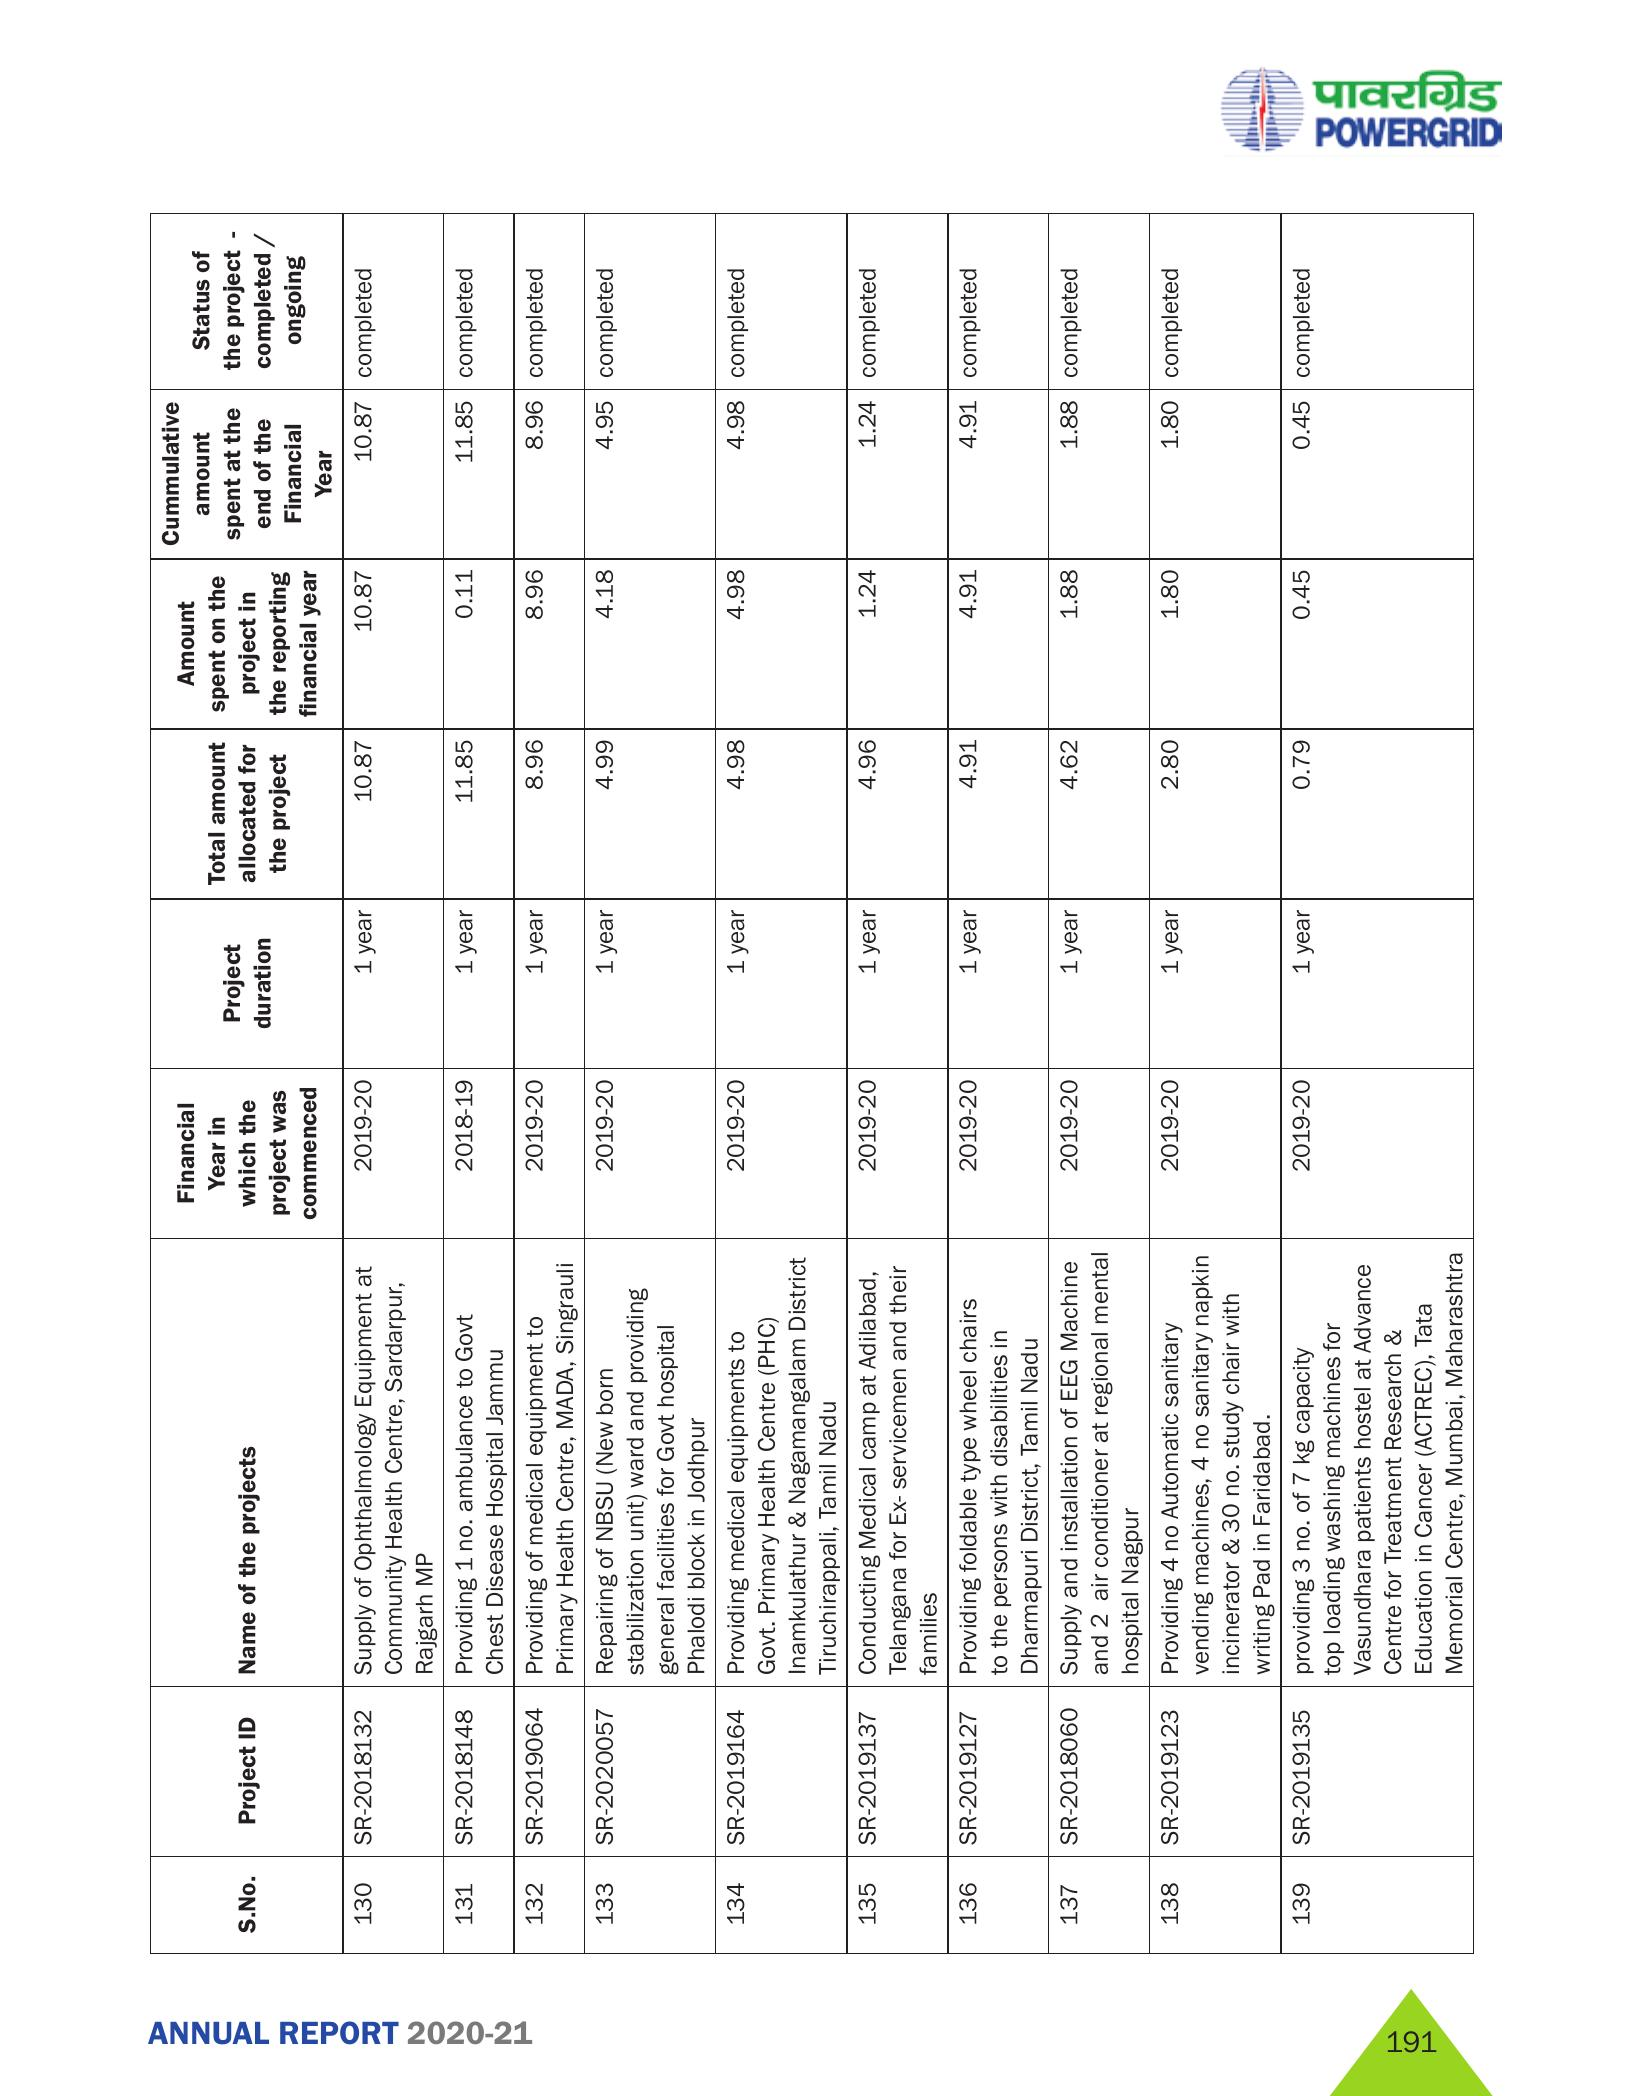Footer: (0, 1979, 1650, 2096)
Header: (0, 0, 1650, 172)
Table: (114, 208, 1533, 1965)
